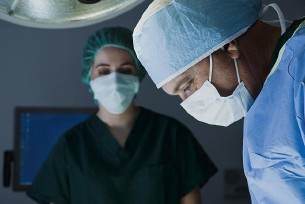face_mask: (142, 30, 254, 128), (89, 49, 140, 113)
